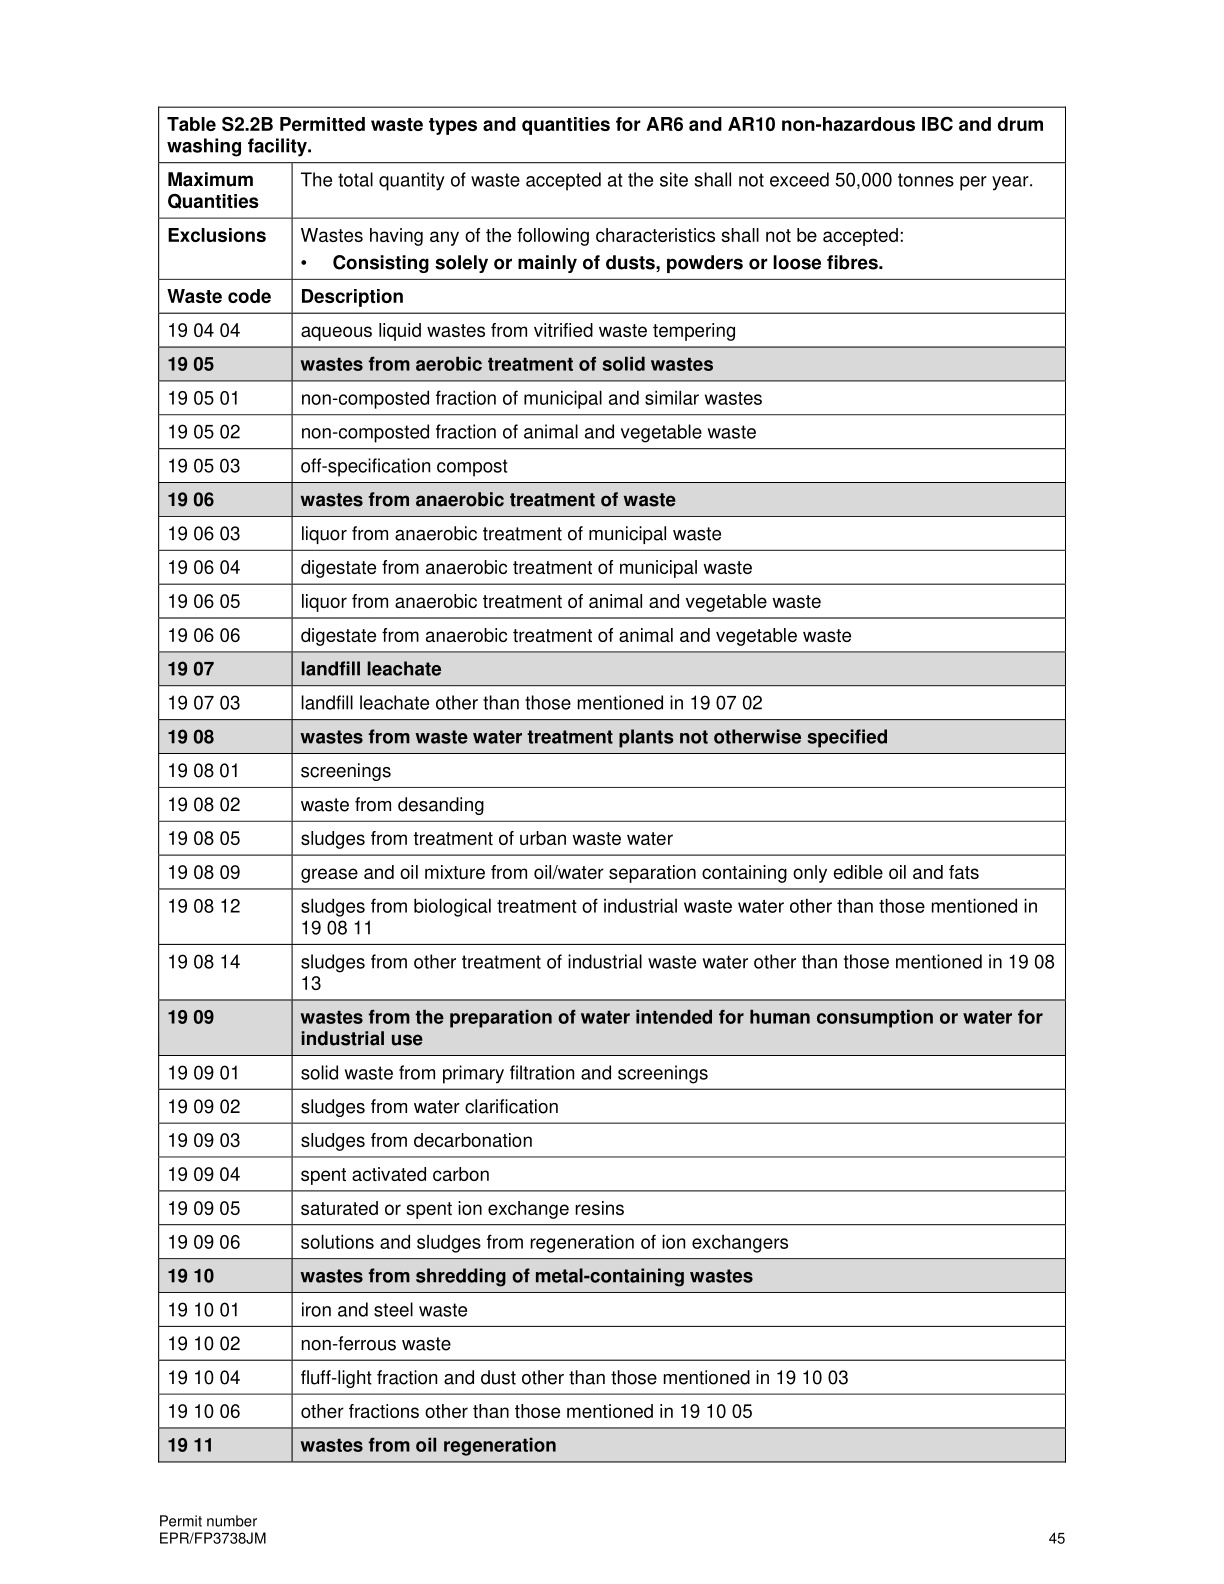merged_cells: (157, 105, 1067, 1463)
